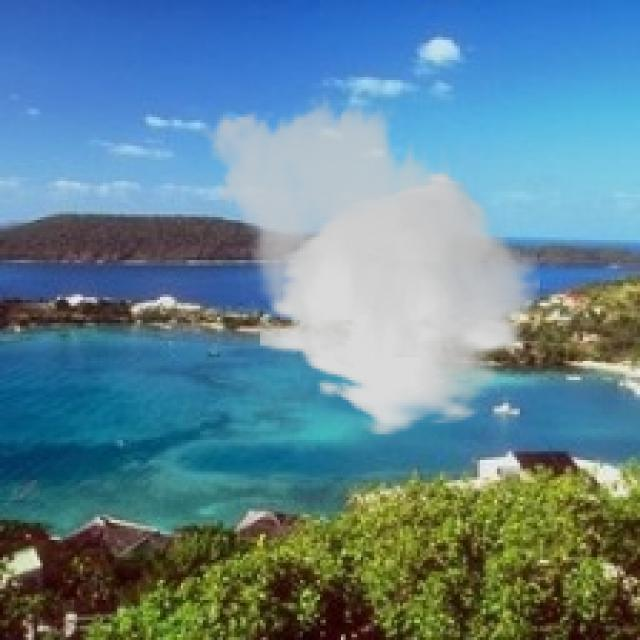smoke: (194, 92, 540, 437)
